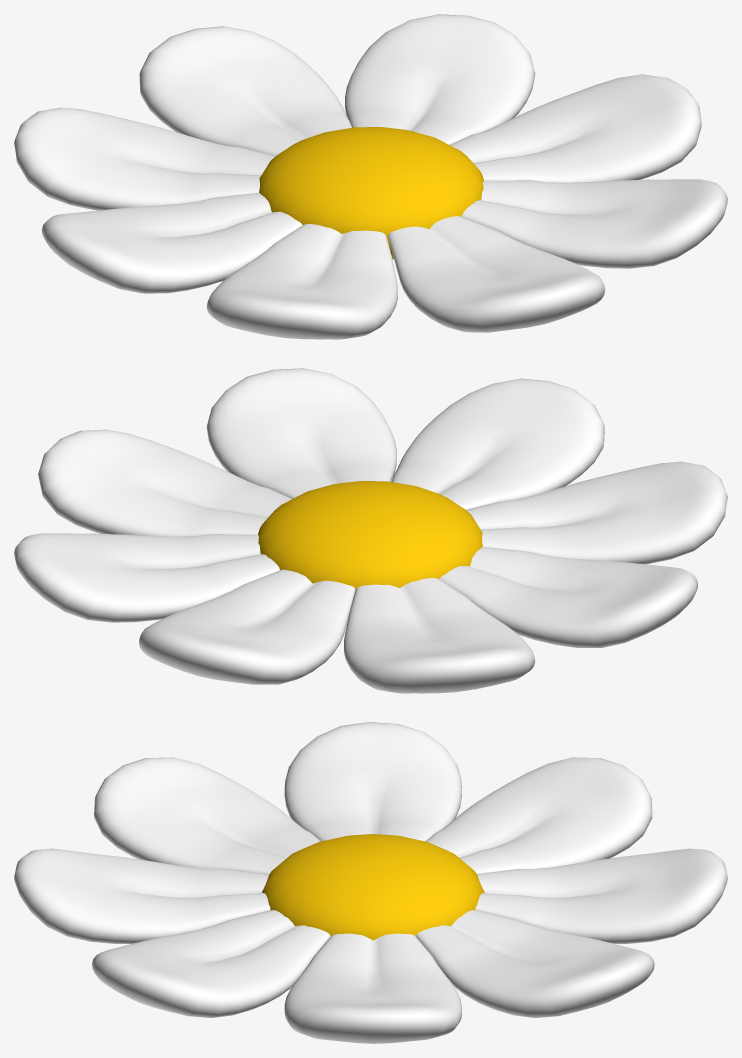
Rendered from hoa1.fbx.
3 views of the same model, one above another, from view 1: azimuth 30°, elevation 25°; view 2: azimuth 150°, elevation 25°; view 3: azimuth 270°, elevation 25° (orthographic). The views are drawn at different scales.
Parts seen in each view (by area): view 1: polySurface8, pasted__polySurface10, pasted__polySurface8, polySurface4, pasted__pasted__polySurface8, pasted__polySurface9, polySurface68, polySurface70, pasted__pasted__polySurface10; view 2: polySurface70, pasted__polySurface10, pasted__polySurface9, pasted__pasted__polySurface10, polySurface4, pasted__polySurface8, polySurface68, polySurface8, pasted__pasted__polySurface8; view 3: pasted__pasted__polySurface10, pasted__pasted__polySurface8, polySurface70, polySurface4, polySurface68, polySurface8, pasted__polySurface9, pasted__polySurface8, pasted__polySurface10.
Boxes of the visible parts, x1,y1,x2,y2 form: polySurface8: (139, 26, 351, 156); pasted__polySurface10: (450, 74, 701, 182); pasted__polySurface8: (345, 14, 535, 144); polySurface4: (259, 127, 483, 259); pasted__pasted__polySurface8: (14, 107, 275, 210); pasted__polySurface9: (462, 179, 727, 268); polySurface68: (41, 193, 302, 293); polySurface70: (388, 216, 605, 332); pasted__pasted__polySurface10: (206, 224, 397, 339); polySurface70: (391, 378, 604, 510); pasted__polySurface10: (38, 429, 291, 536); pasted__polySurface9: (206, 368, 396, 498); pasted__pasted__polySurface10: (466, 461, 727, 564); polySurface4: (258, 481, 482, 588); pasted__polySurface8: (14, 533, 279, 622); polySurface68: (439, 547, 697, 647); polySurface8: (139, 569, 355, 684); pasted__pasted__polySurface8: (344, 578, 535, 693); pasted__pasted__polySurface10: (94, 757, 320, 874); pasted__pasted__polySurface8: (425, 757, 652, 873); polySurface70: (14, 848, 270, 943); polySurface4: (262, 834, 484, 940); polySurface68: (284, 722, 461, 841); polySurface8: (475, 848, 727, 943); pasted__polySurface9: (92, 910, 330, 1017); pasted__polySurface8: (415, 910, 654, 1017); pasted__polySurface10: (284, 933, 461, 1043).
Size of the model in its own units: 82.74 by 11.5 by 83.59.
